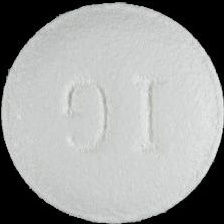50436-9949: (0, 0, 224, 224)
